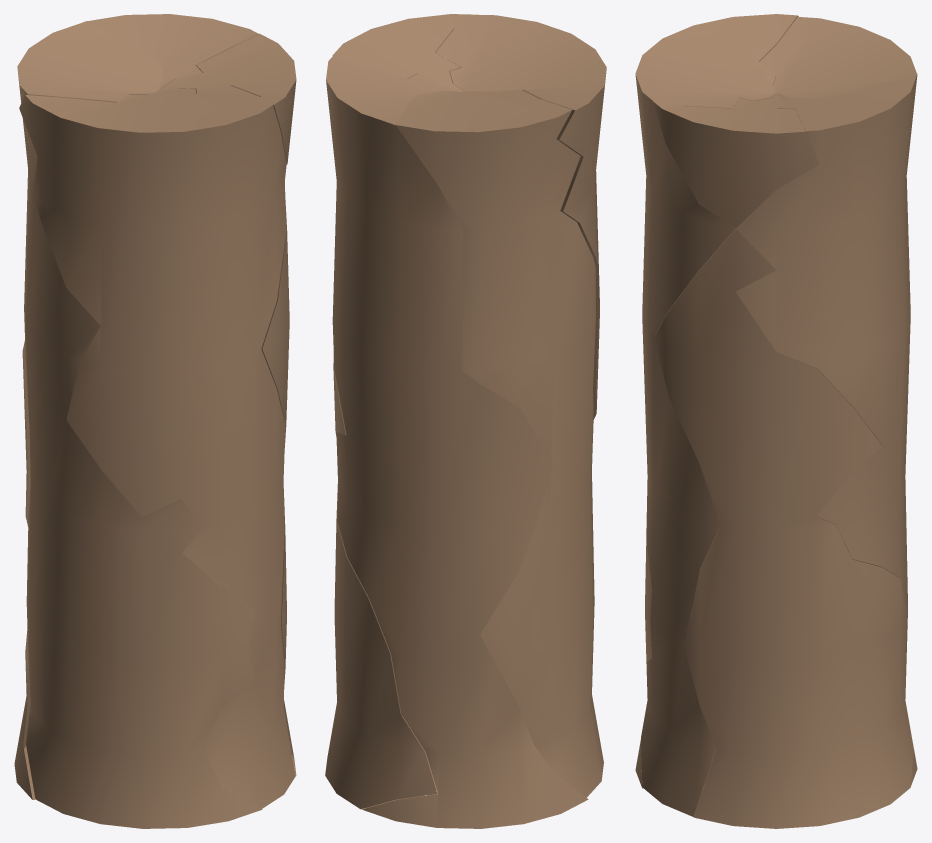
The model's file is breakable trunk.fbx.
3 renders of one model, left to right at view 1: azimuth 30°, elevation 25°; view 2: azimuth 150°, elevation 25°; view 3: azimuth 270°, elevation 25°, orthographic.
Parts seen in each view (by area): view 1: LogFirst_Part01, LogFirst_Part02, LogFirst_Part04, LogFirst_Part05, LogFirst_Part03; view 2: LogFirst_Part04, LogFirst_Part02, LogFirst_Part03, LogFirst_Part01, LogFirst_Part05; view 3: LogFirst_Part03, LogFirst_Part04, LogFirst_Part01, LogFirst_Part05, LogFirst_Part02.
Part boxes in pixels (x1,y1,x2,y2): LogFirst_Part01: (19, 85, 295, 808); LogFirst_Part02: (17, 21, 262, 828); LogFirst_Part04: (14, 14, 260, 799); LogFirst_Part05: (157, 33, 296, 164); LogFirst_Part03: (144, 200, 296, 775); LogFirst_Part04: (326, 55, 588, 828); LogFirst_Part02: (393, 89, 603, 797); LogFirst_Part03: (325, 355, 437, 809); LogFirst_Part01: (435, 14, 606, 419); LogFirst_Part05: (332, 14, 470, 91); LogFirst_Part03: (654, 228, 913, 828); LogFirst_Part04: (736, 73, 917, 786); LogFirst_Part01: (635, 14, 798, 816); LogFirst_Part05: (653, 93, 818, 227); LogFirst_Part02: (635, 17, 917, 788).
Size of the model in its own units: 5.92 by 16.04 by 5.9.
